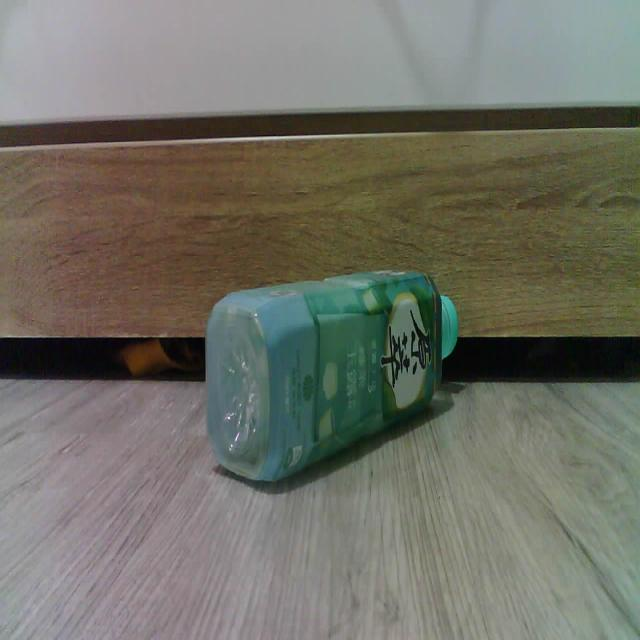bottle: (206, 270, 458, 480)
